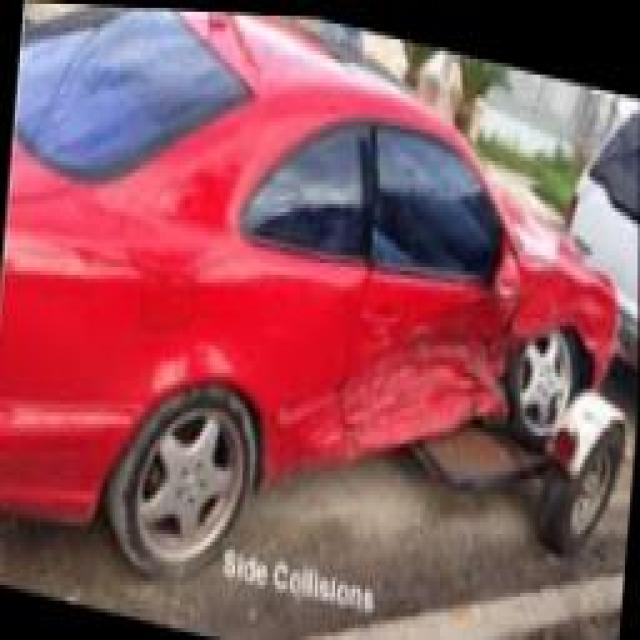Door: (354, 326, 502, 434)
Fender: (519, 252, 613, 345)
